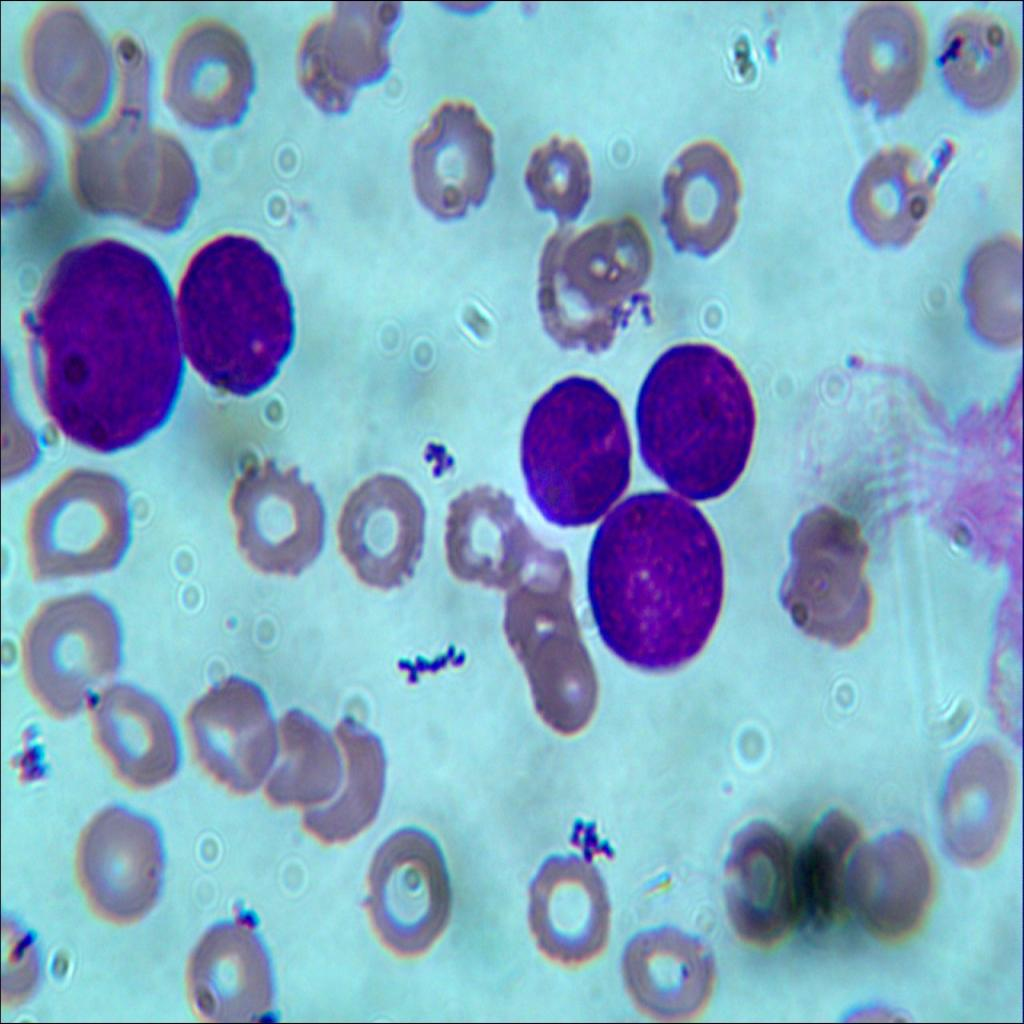Eritrosit: (358, 825, 462, 961), (20, 592, 126, 718), (60, 799, 166, 924), (929, 724, 1018, 872), (181, 672, 278, 801), (518, 847, 613, 975), (833, 0, 928, 128), (413, 97, 498, 235), (333, 477, 429, 598), (84, 672, 184, 788), (609, 915, 716, 1022), (258, 688, 344, 820), (658, 134, 746, 262), (839, 820, 931, 942), (29, 468, 131, 578), (299, 715, 384, 847), (235, 452, 321, 580), (26, 2, 114, 127), (170, 10, 256, 136), (538, 224, 620, 354), (791, 801, 862, 950), (522, 614, 604, 742), (716, 815, 791, 948), (856, 138, 936, 258), (439, 482, 524, 592), (191, 912, 275, 1023), (781, 555, 875, 654), (576, 202, 656, 314), (939, 14, 1023, 120), (68, 112, 150, 218), (954, 224, 1023, 349), (498, 530, 572, 645), (786, 498, 866, 595), (123, 136, 196, 234), (516, 124, 586, 221), (298, 29, 360, 128), (0, 94, 51, 212), (326, 0, 386, 78)
Limfoblast: (18, 237, 189, 450), (582, 494, 716, 675), (178, 232, 302, 406), (630, 340, 746, 509), (511, 374, 634, 532)
Platelet: (846, 341, 878, 378), (216, 605, 238, 639), (84, 684, 103, 714)
